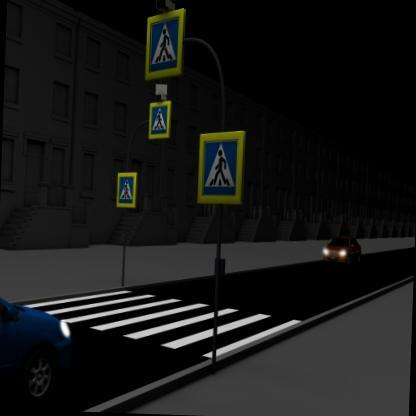road_sign: (197, 132, 245, 204), (145, 8, 185, 78), (148, 101, 171, 138), (117, 173, 137, 207)
